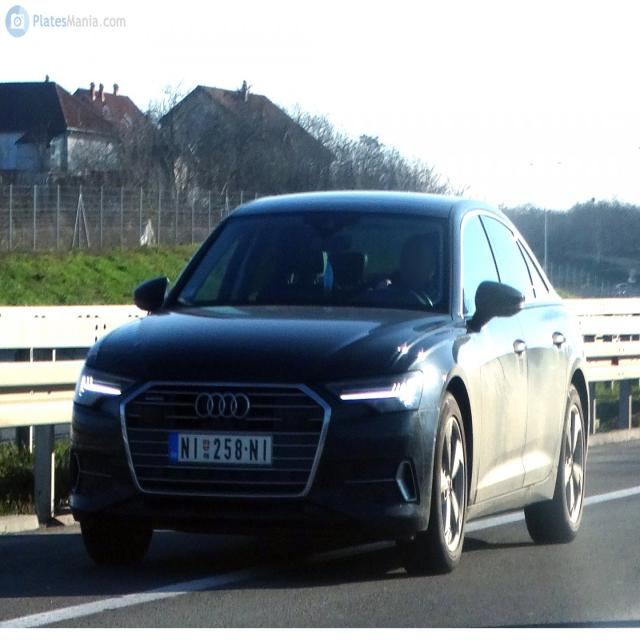License-plate: (168, 430, 271, 473)
